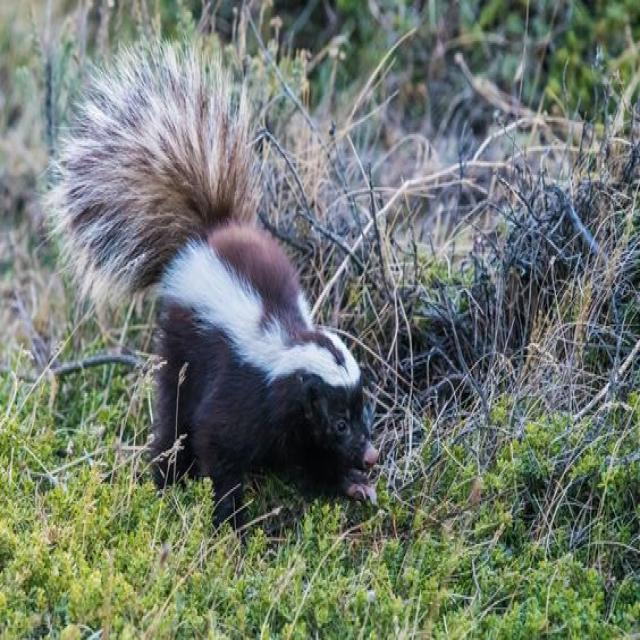Skunk: (1, 1, 392, 498)
